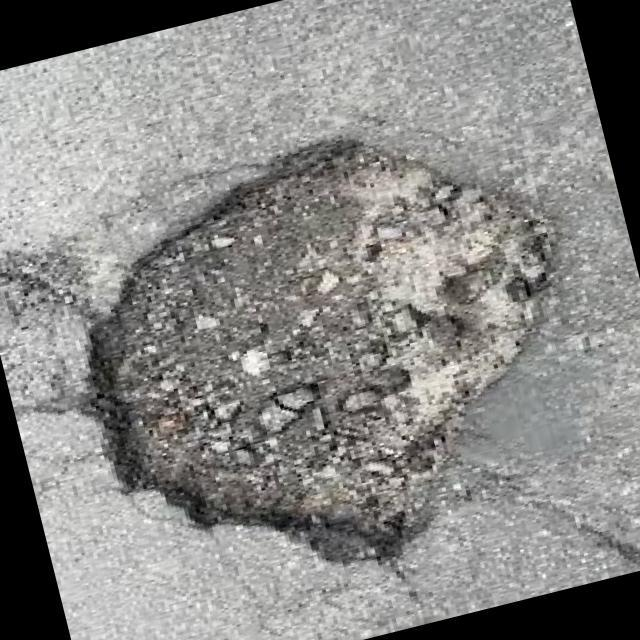pothole: (27, 90, 626, 623)
